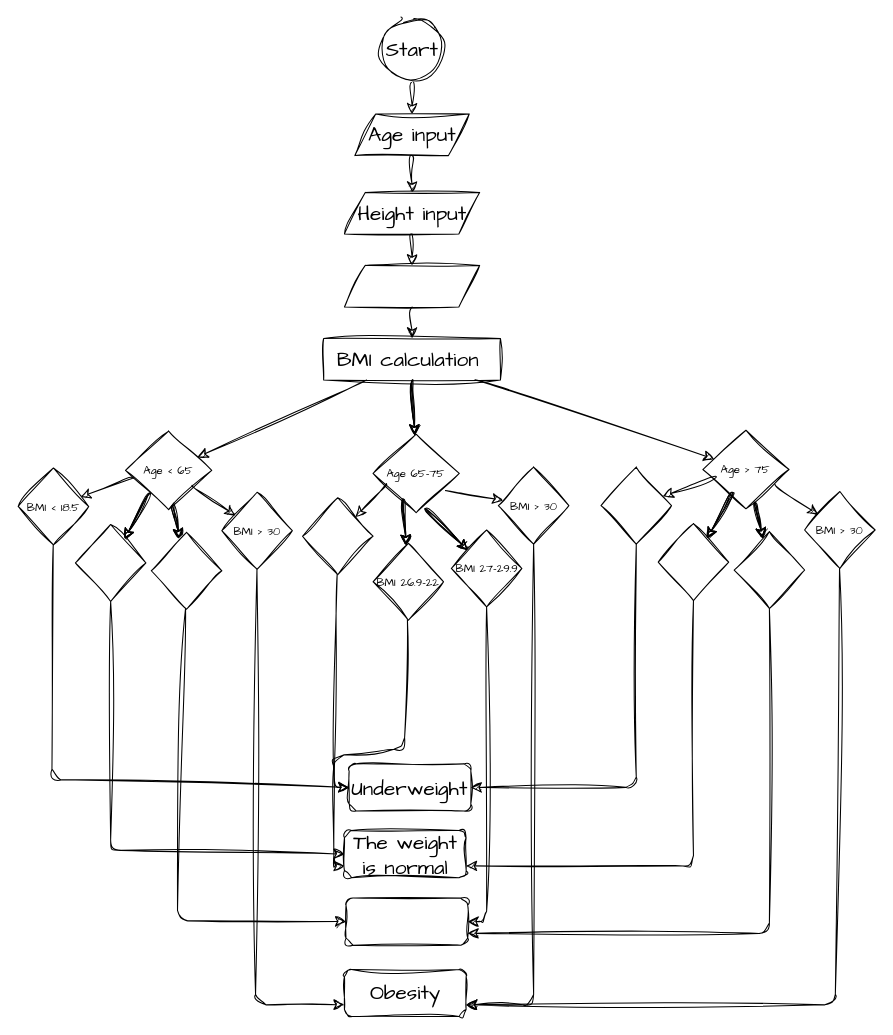
The diagram is 893 pixels wide and 1035 high, and some of its shapes have lost their labels. Each missing label, with the box of its shape:
BMI 18.5-24.9: (74, 523, 146, 601)
BMI 23.01-27.9: (657, 523, 729, 601)
BMI 25-29.9: (150, 531, 222, 609)
BMI 28-29.9: (733, 531, 805, 609)
BMI < 22: (301, 497, 373, 575)
BMI =< 23: (600, 466, 672, 544)
Overweight: (345, 897, 468, 945)
Weight input: (343, 264, 480, 307)
